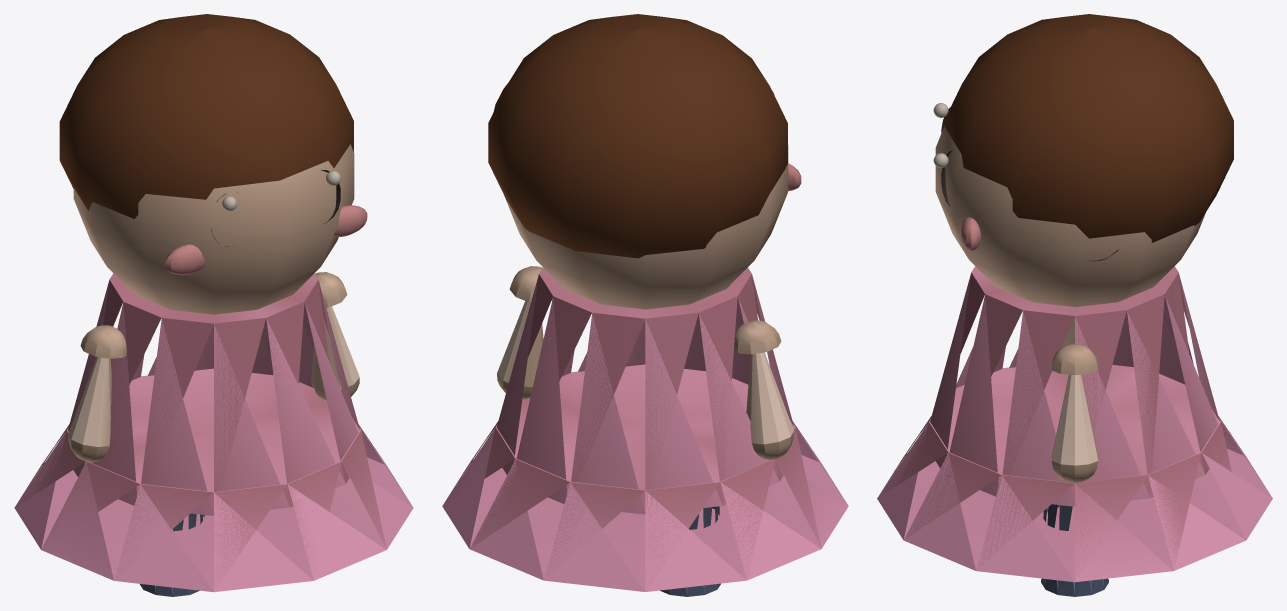
The model's file is pbcbc459c.glb.
The picture shows the model from 3 angles, left to right: view 1: azimuth 30°, elevation 25°; view 2: azimuth 150°, elevation 25°; view 3: azimuth 270°, elevation 25°; orthographic projection. The views are drawn at different scales.
Parts seen in each view (by area): view 1: pet_pbcbc459c; view 2: pet_pbcbc459c; view 3: pet_pbcbc459c.
Boxes of the visible parts, x1,y1,x2,y2 form: pet_pbcbc459c: [14, 14, 413, 596]; pet_pbcbc459c: [442, 14, 848, 596]; pet_pbcbc459c: [877, 14, 1272, 596].
Bounding box in the file's own units: 0.42 × 0.625 × 0.42.
